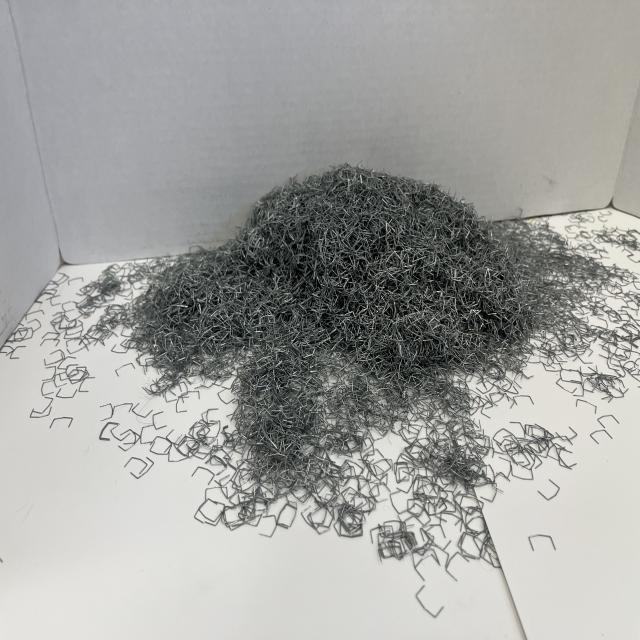staples: (116, 160, 537, 484)
